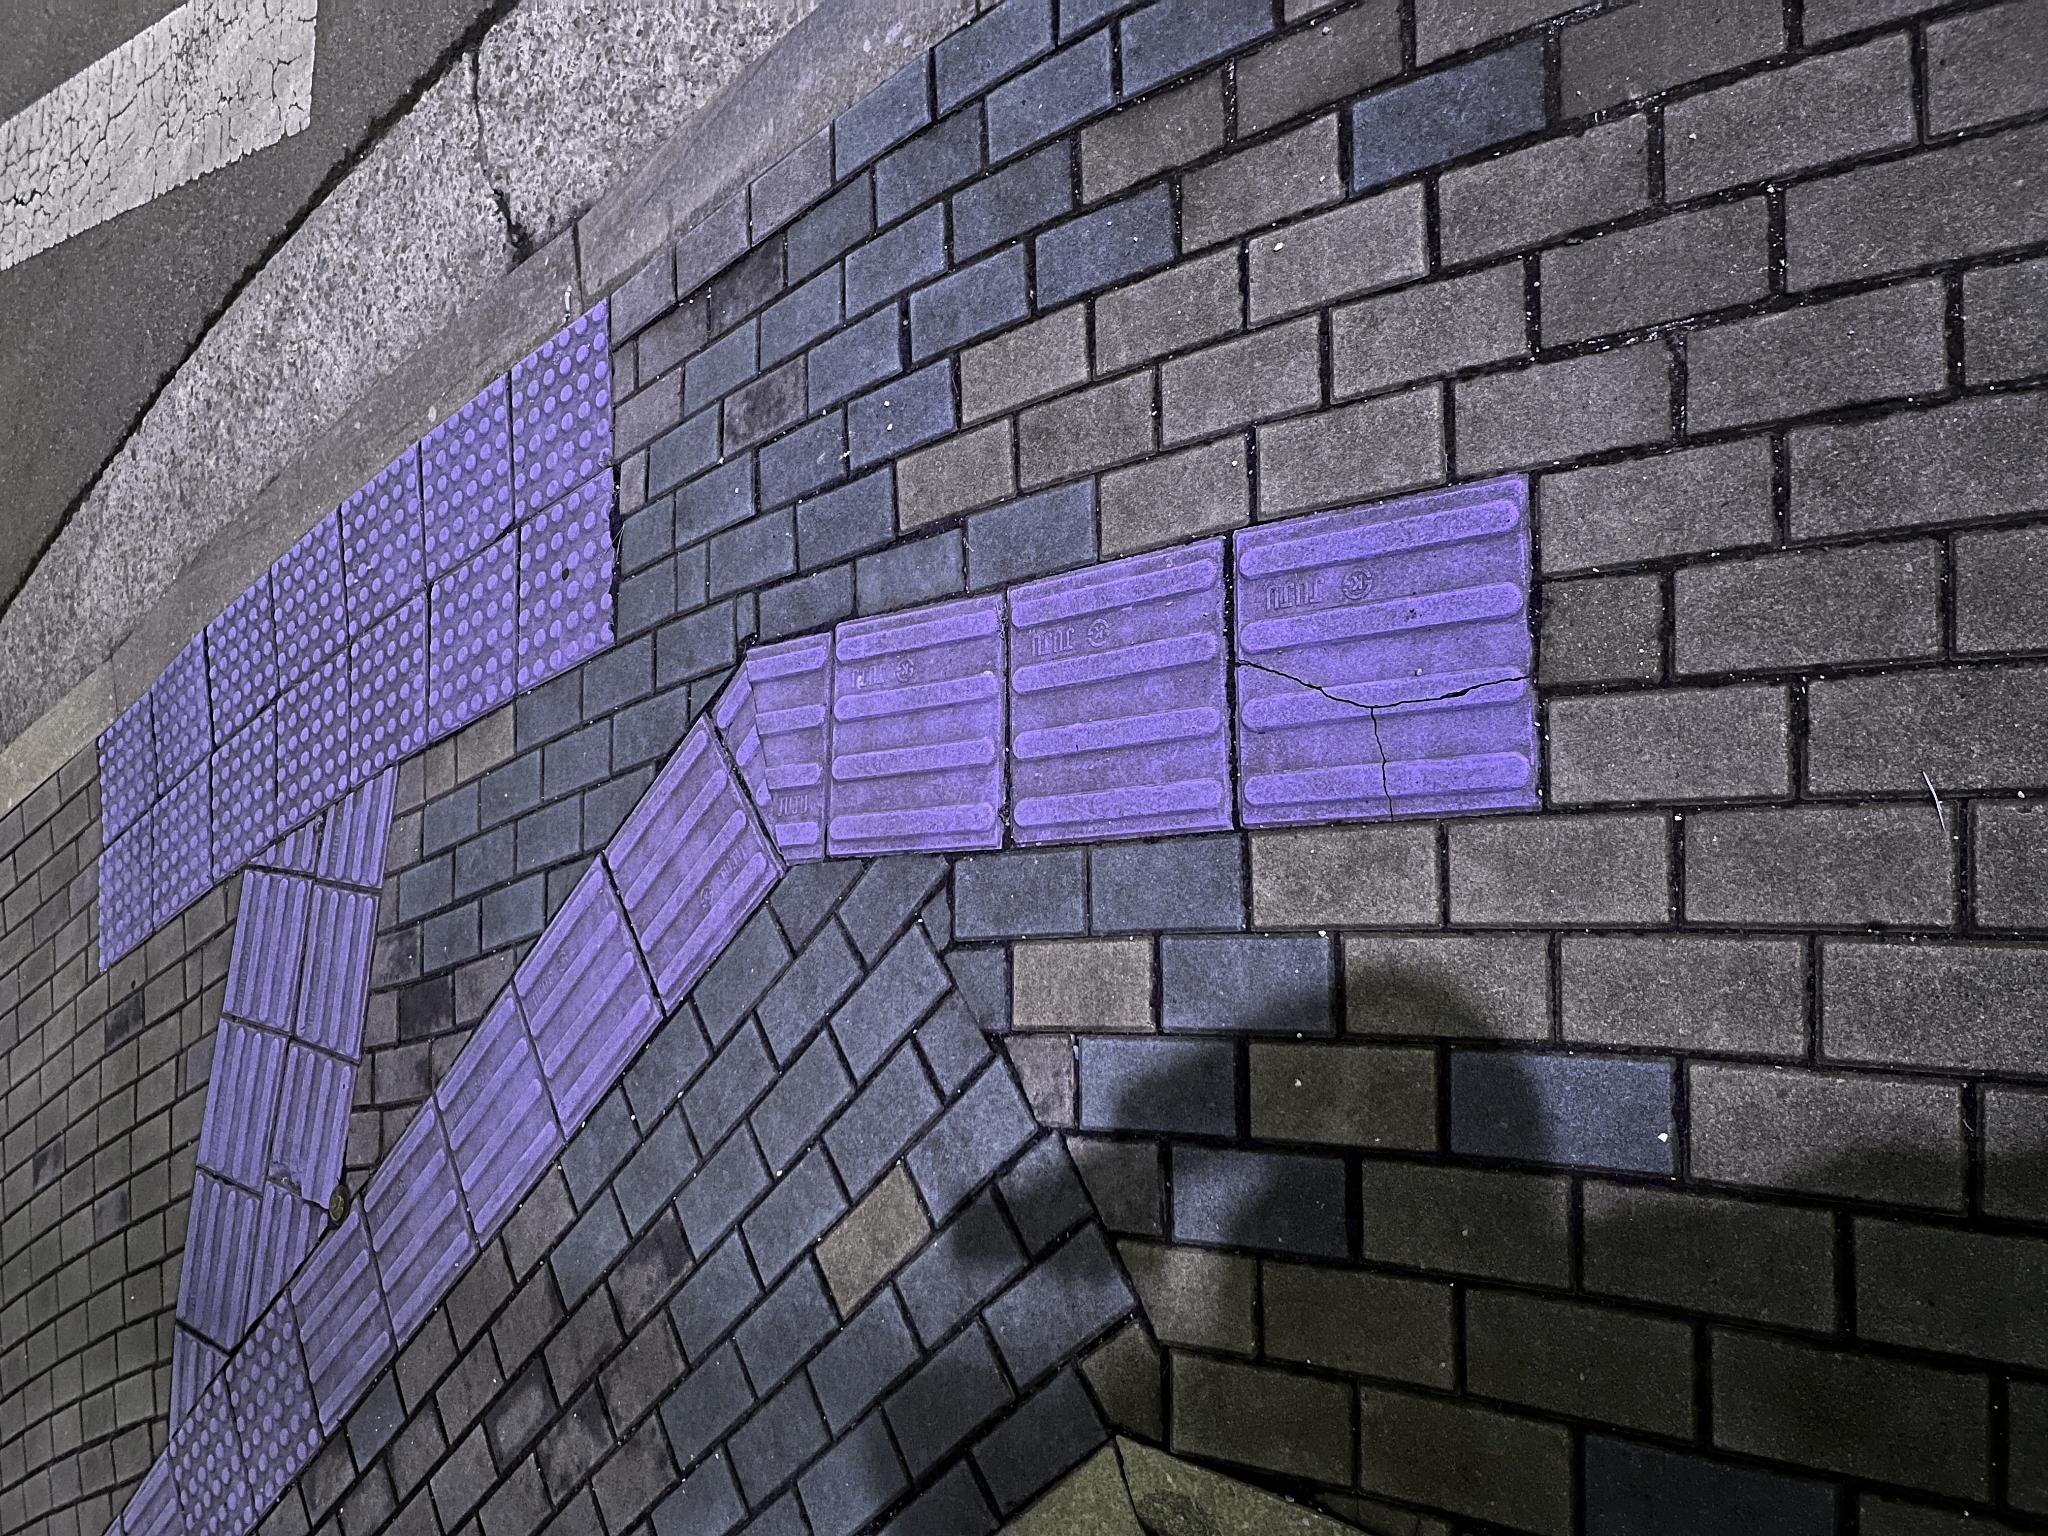Stop block normal: (1014, 511, 1237, 613), (845, 518, 1069, 611), (953, 423, 1163, 513), (795, 431, 1006, 515), (897, 340, 1092, 426), (748, 350, 943, 426), (843, 269, 1029, 347), (703, 276, 887, 350)
Straight block broken: (716, 1236, 1059, 1536), (327, 268, 493, 355)
Straight block normal: (692, 1013, 997, 1231), (522, 605, 818, 781), (684, 829, 940, 1000), (400, 511, 677, 658), (292, 436, 550, 558), (190, 361, 440, 474), (102, 287, 335, 395), (345, 197, 519, 286), (502, 223, 666, 311), (477, 295, 653, 378)
